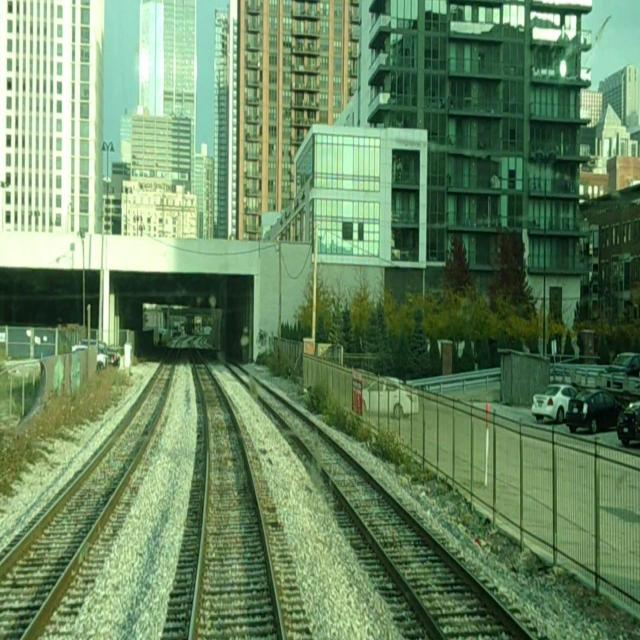rail-track: (190, 342, 280, 639)
